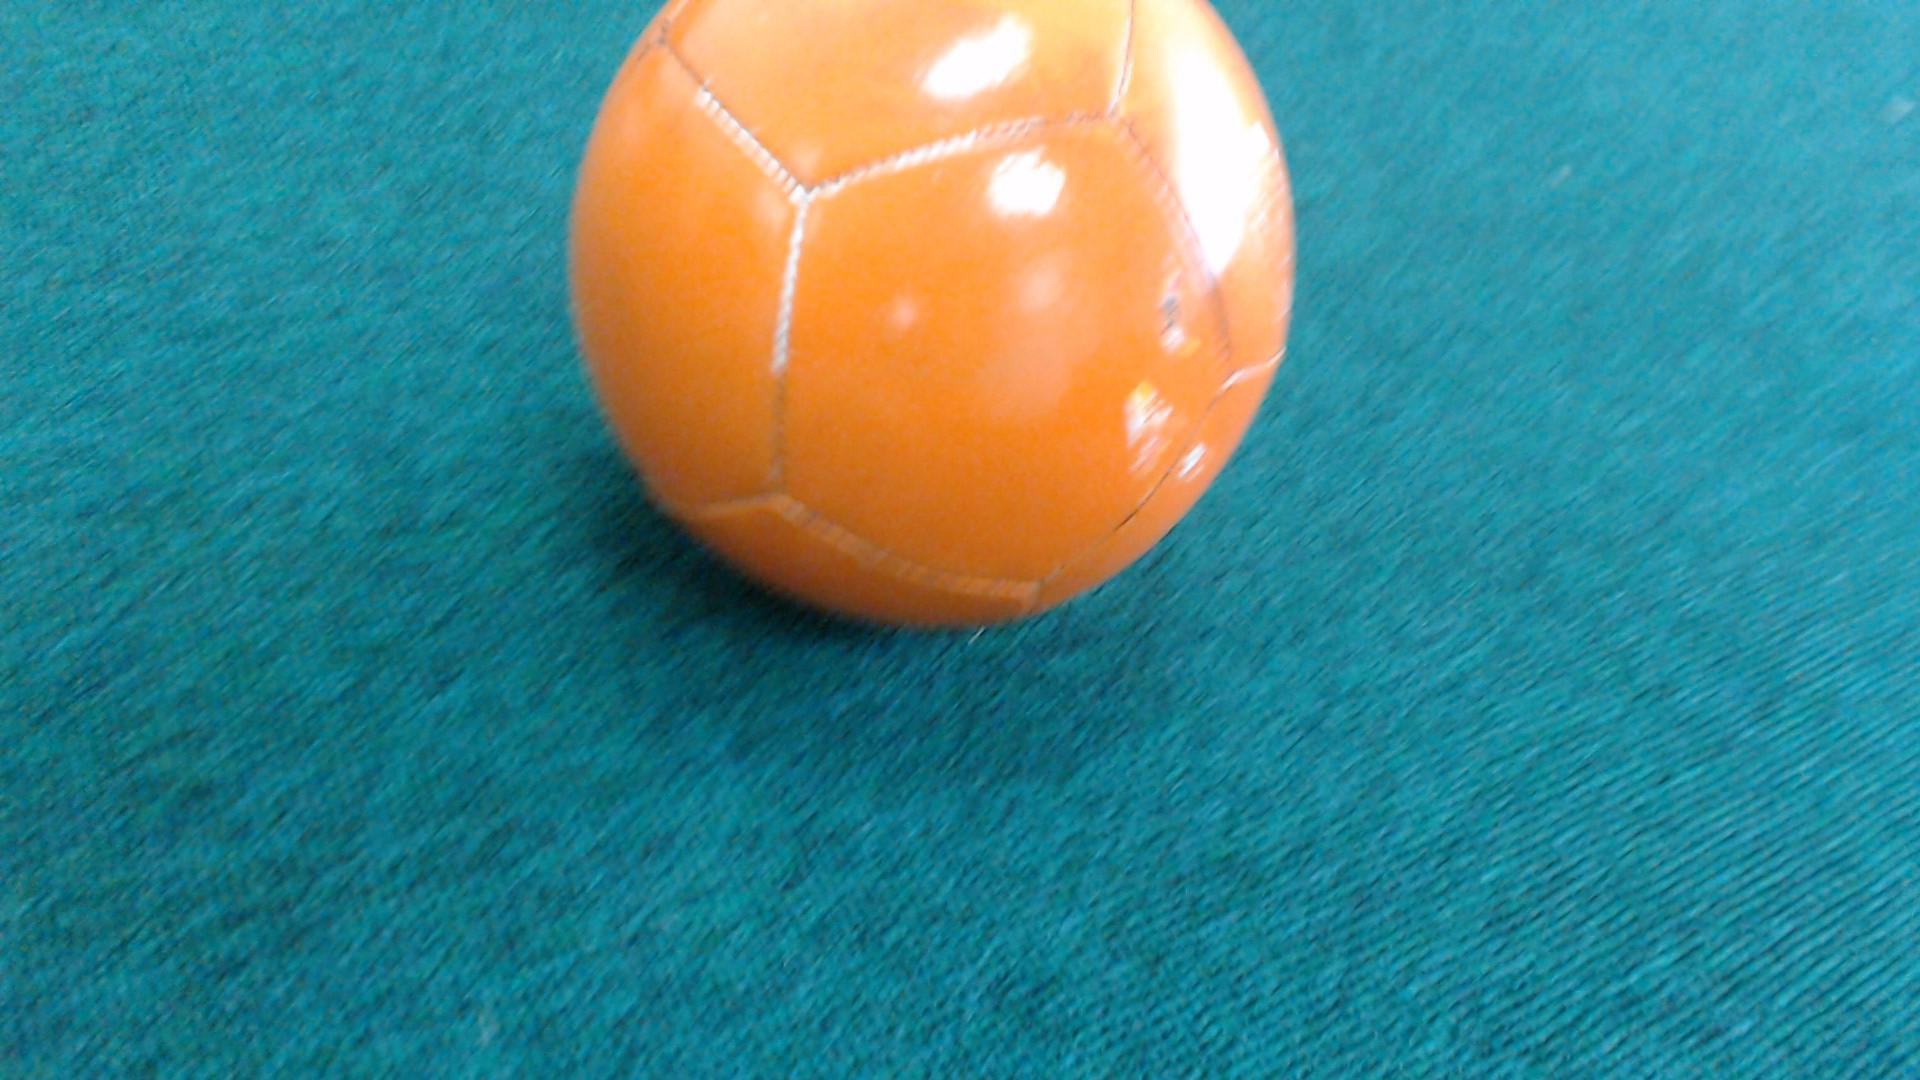bola: (521, 5, 1341, 682)
